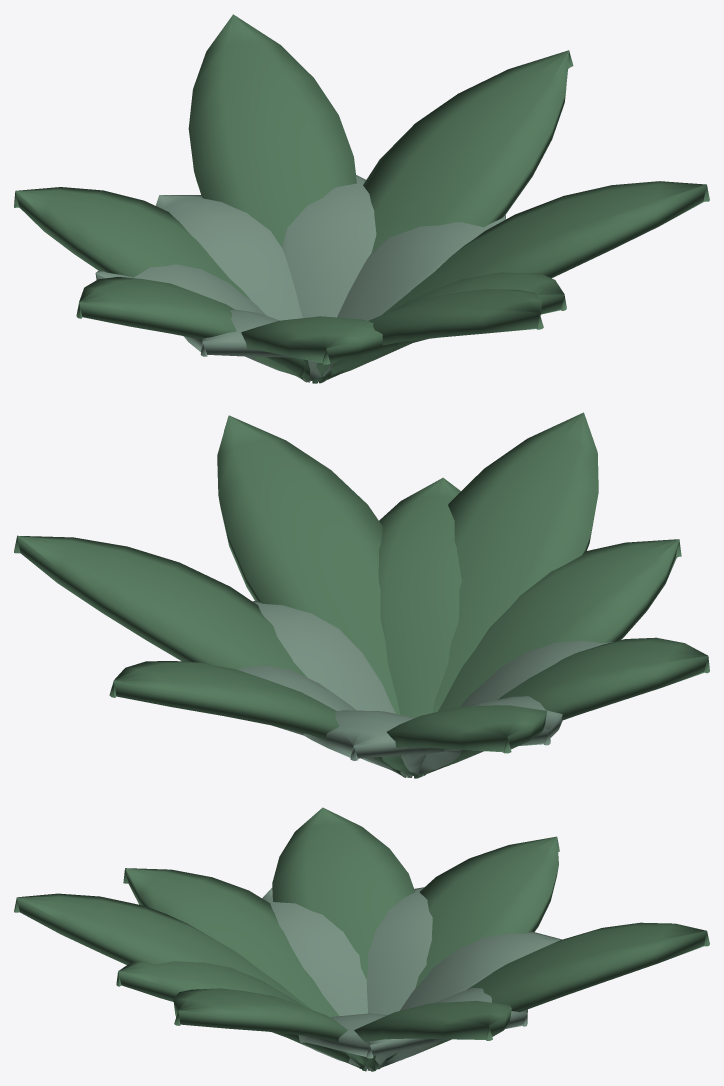
The model's file is chapter_leafy_edging_atelier.glb.
3 views of the same model, one above another, from view 1: azimuth 30°, elevation 25°; view 2: azimuth 150°, elevation 25°; view 3: azimuth 270°, elevation 25° (orthographic). The views are drawn at different scales.
Visible parts, largest first — view 1: chapter_leafy_edging_atelier__TaggedPainted_chapter_leafy_ed; view 2: chapter_leafy_edging_atelier__TaggedPainted_chapter_leafy_ed; view 3: chapter_leafy_edging_atelier__TaggedPainted_chapter_leafy_ed.
Boxes of the visible parts, x1,y1,x2,y2 form: chapter_leafy_edging_atelier__TaggedPainted_chapter_leafy_ed: (14,14,709,383); chapter_leafy_edging_atelier__TaggedPainted_chapter_leafy_ed: (14,412,709,778); chapter_leafy_edging_atelier__TaggedPainted_chapter_leafy_ed: (14,807,709,1071).
Bounding box in the file's own units: 0.5791 × 0.1912 × 0.6597.
